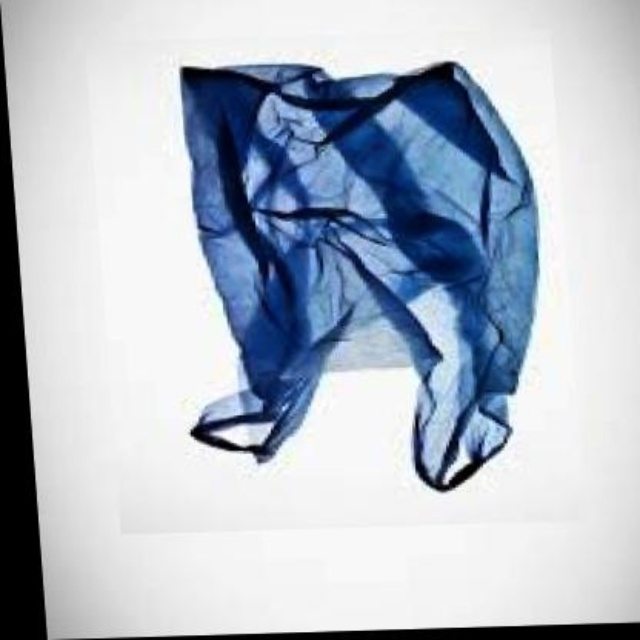trash: (182, 62, 537, 489)
